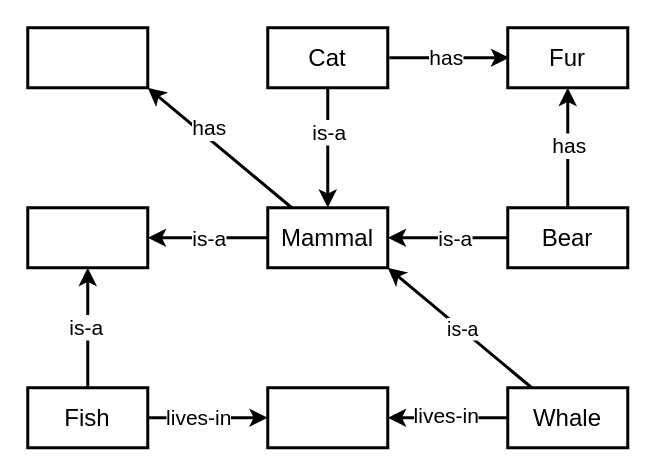
The diagram is 654 pixels wide and 474 high, and some of its shapes have lost their labels. Each missing label, with the box of its shape:
Animal: (26, 206, 148, 268)
Vetebrate: (26, 26, 148, 88)
Water: (266, 386, 388, 448)
